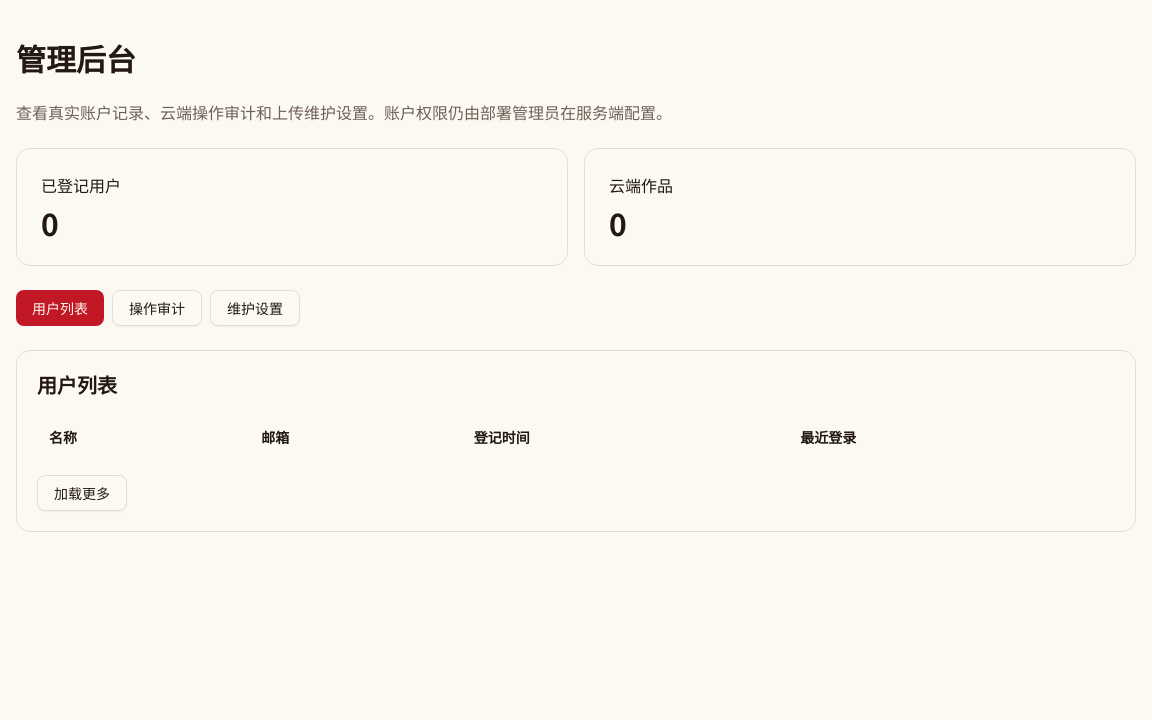
Test: admin controls › requires confirmation before saving an upload maintenance change
This screenshot has width=1152, height=720.
Click the button "维护设置" at (255, 308), box [210, 290, 300, 326]
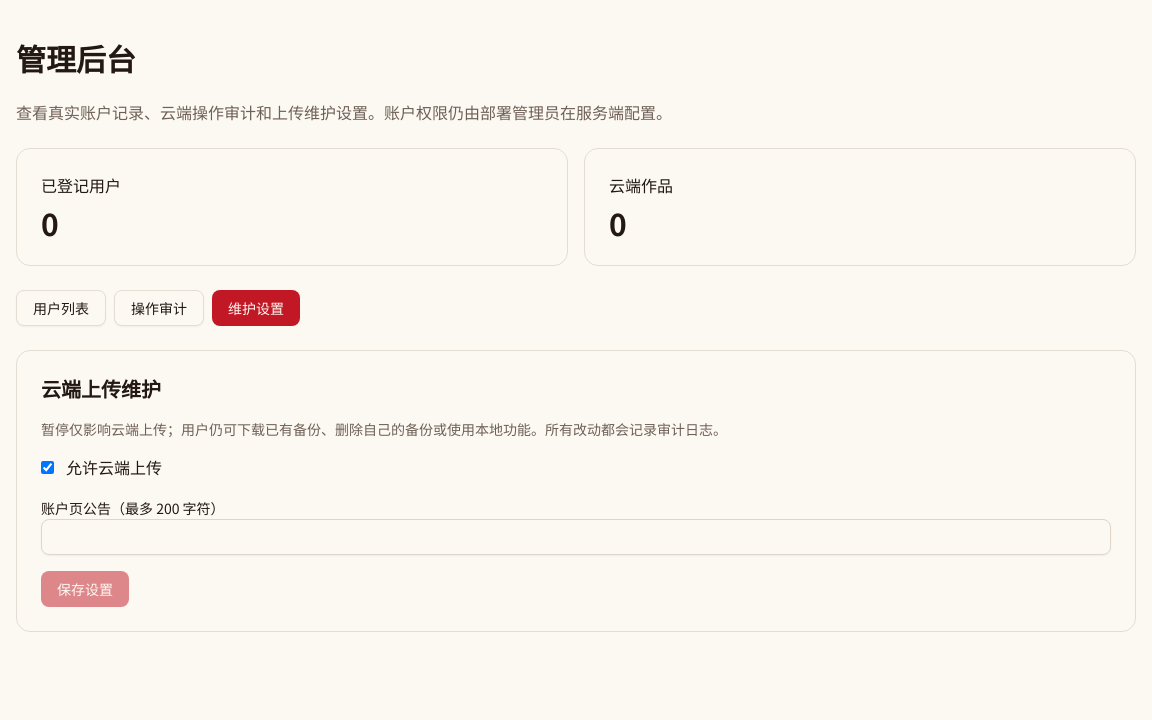
Click the checkbox labelled "允许云端上传" at (48, 467), box [41, 460, 54, 474]
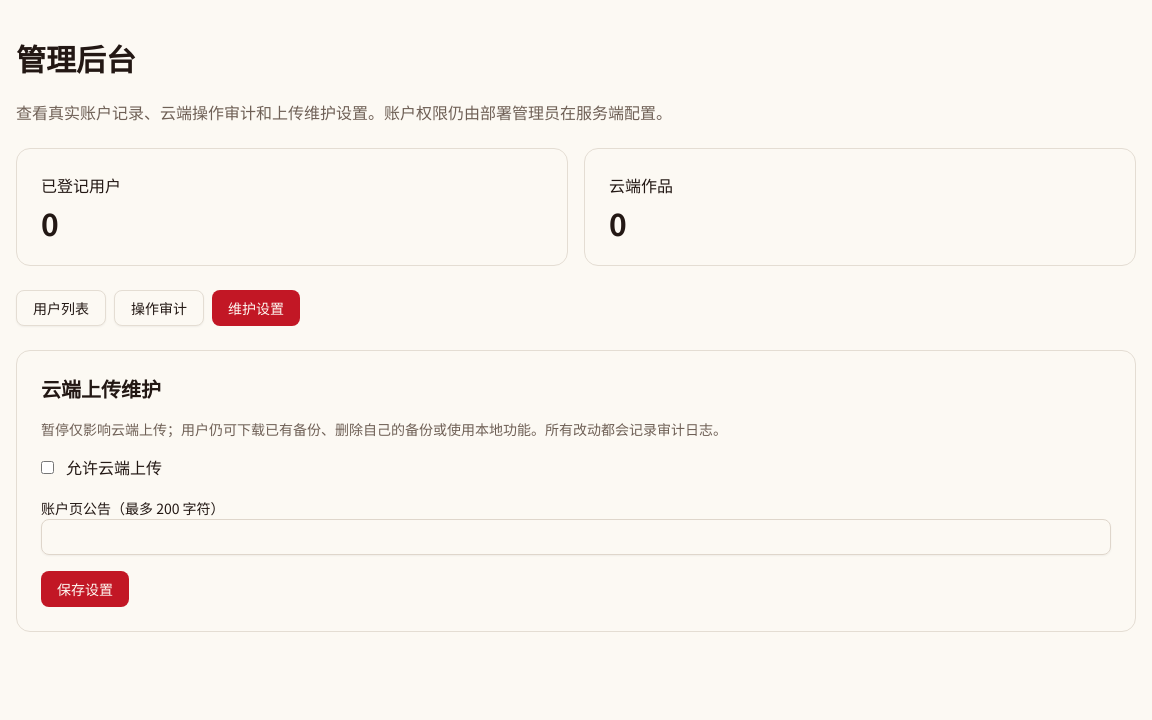
Type "维护中" into the field labelled "账户页公告（最多 200 字符）" at (576, 537), box [41, 519, 1111, 555]
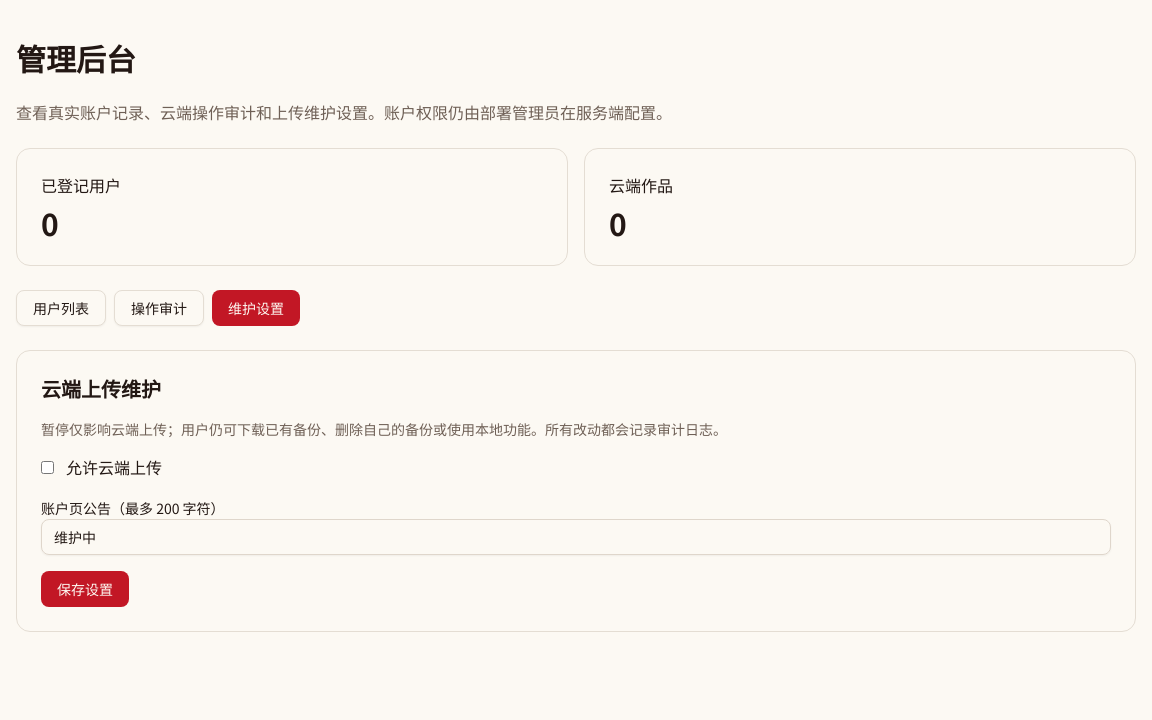
Click the button "保存设置" at (85, 589), box [41, 571, 129, 607]
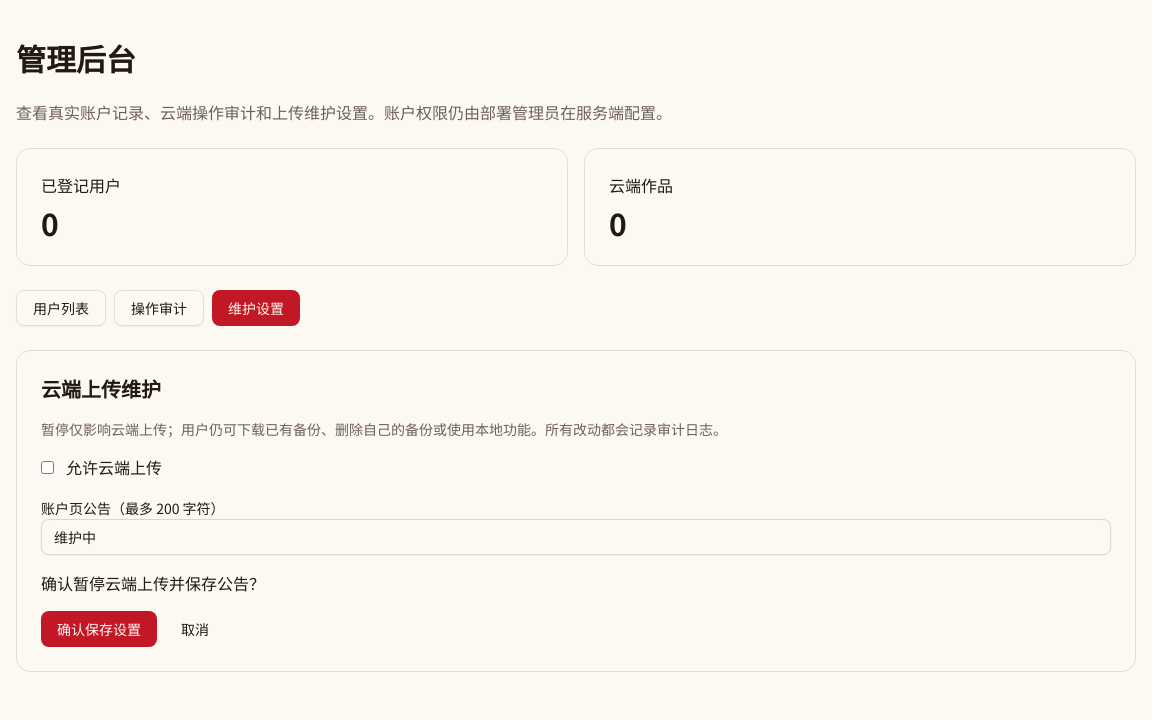
Click the button "确认保存设置" at (99, 629), box [41, 611, 157, 647]
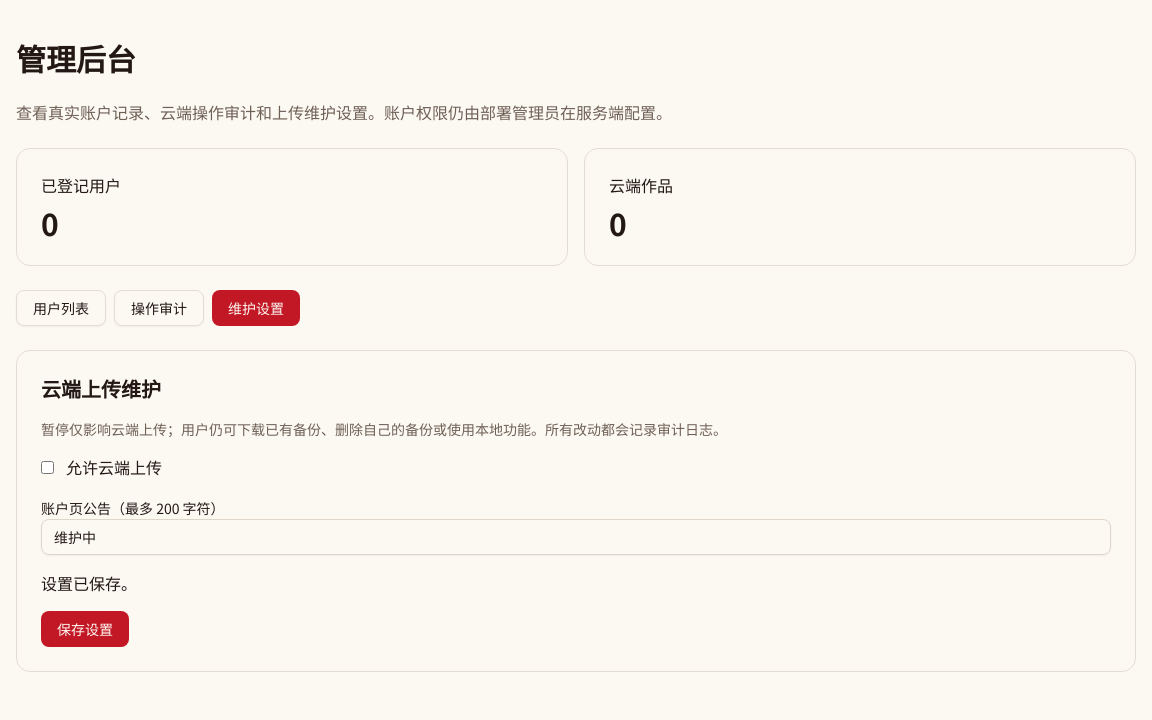
Expected: the message shows "设置已保存", [41, 571, 137, 595]
